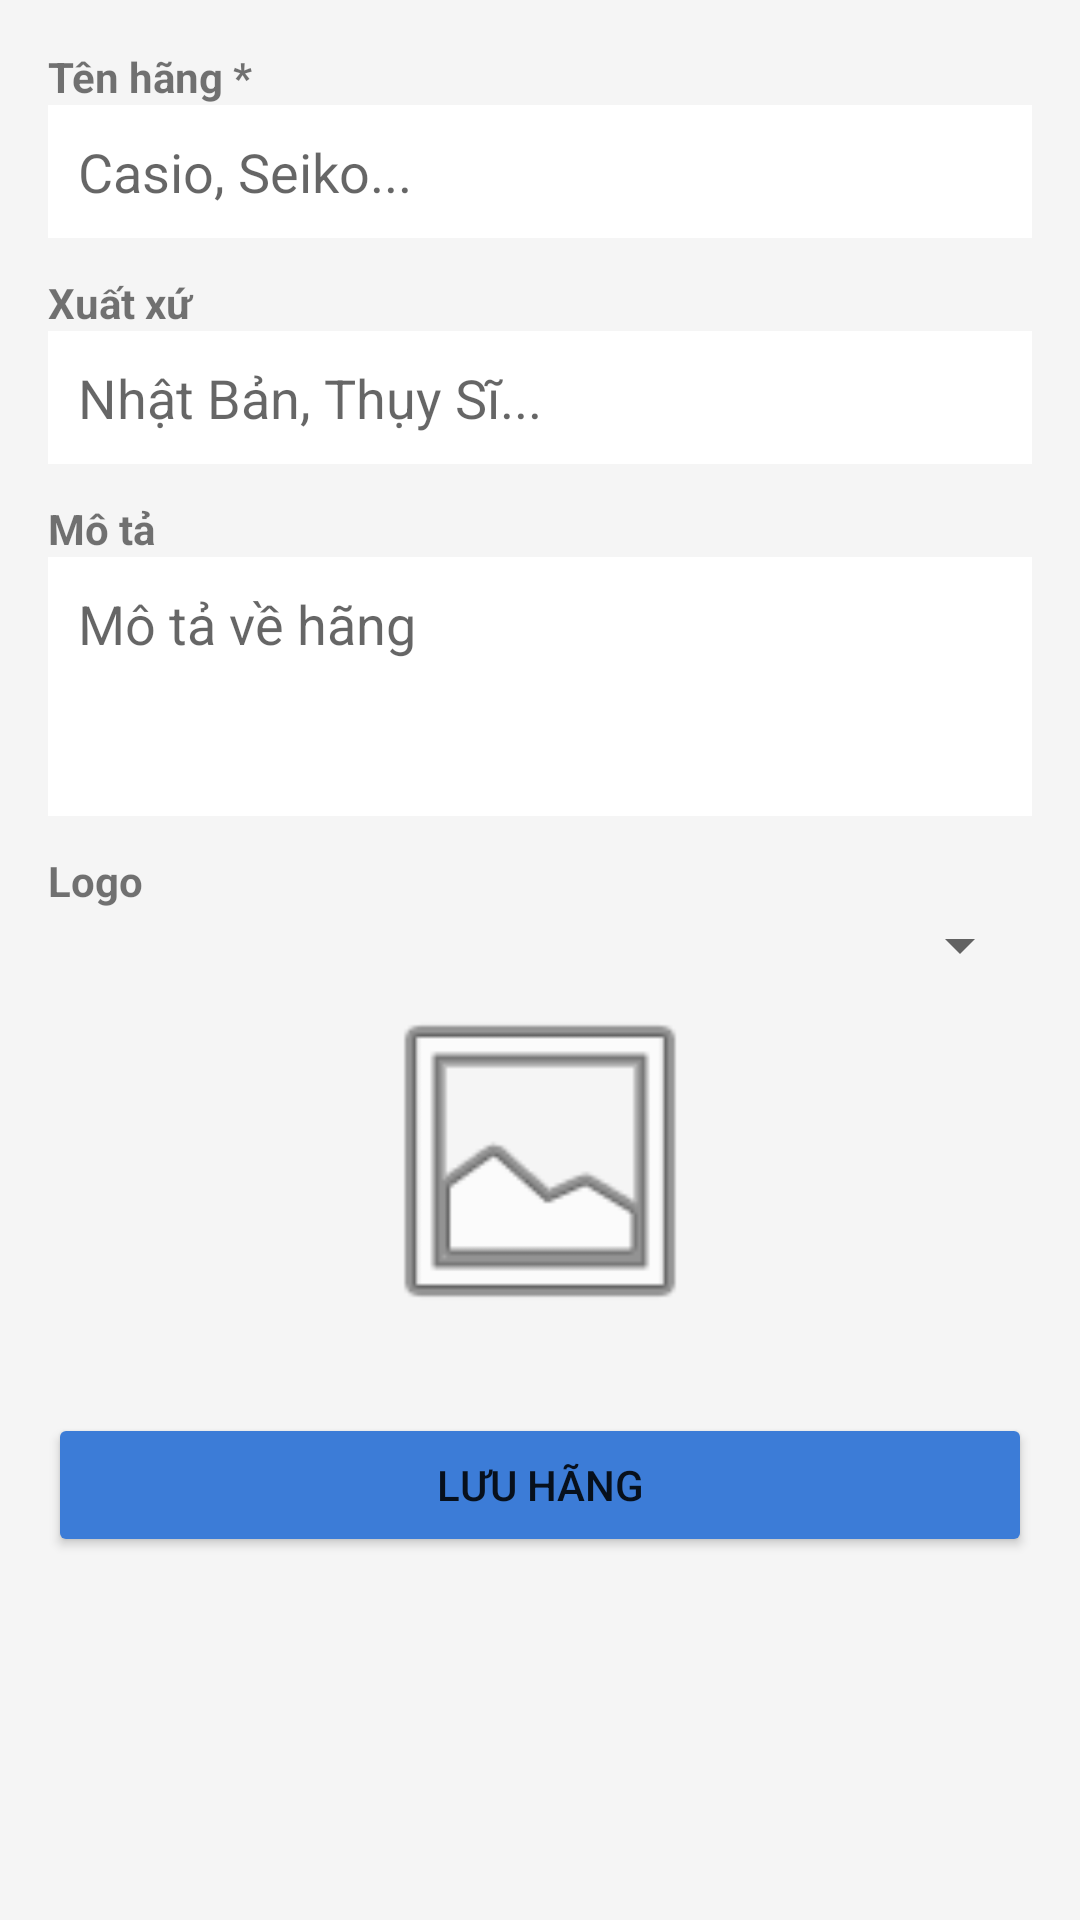

Screen size 1080px×1920px. Icon name, then its box in pixels as (x1, y1, x2, y2):
gallery: (404, 1025, 676, 1297)
